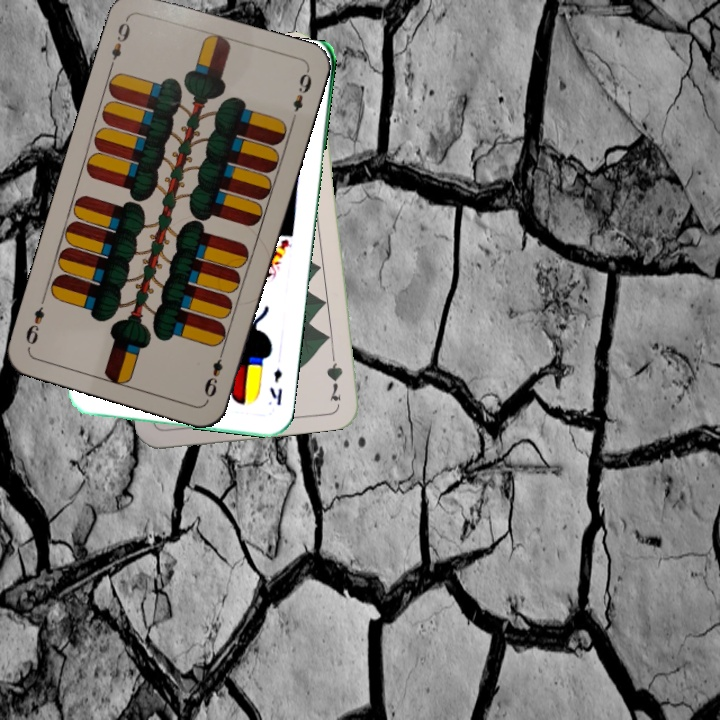E9: (200, 345, 227, 403), (106, 13, 133, 71)
EK: (265, 365, 285, 408)
G7: (322, 344, 346, 404)
